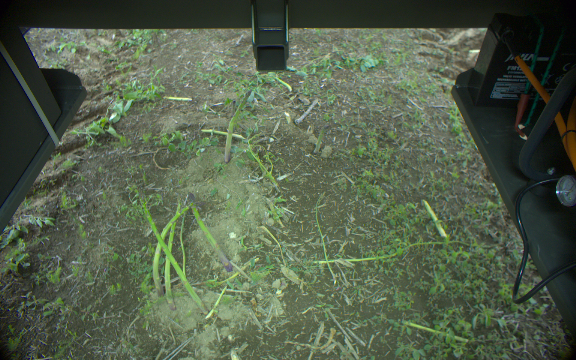aspa: (137, 190, 206, 316), (153, 200, 203, 293), (185, 193, 232, 272), (223, 89, 252, 161), (166, 204, 181, 310)
